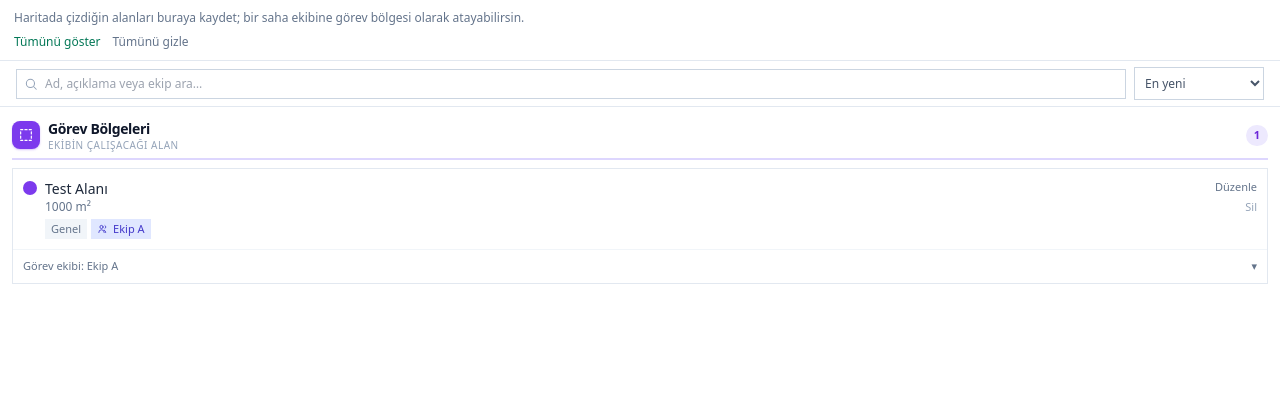
BolgePaneli - atama sonrasi panel guncellenir › atamayi kaldirinca kart havuza doner
Click the text "Görev ekibi: Ekip A" at (71, 266), box [23, 258, 118, 274]
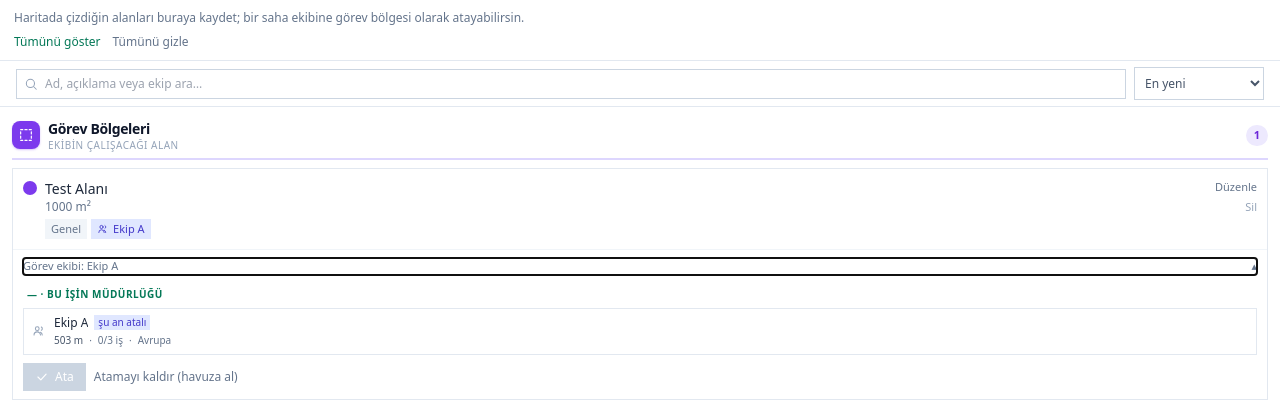
Click the button "Atamayı kaldır (havuza al)" at (166, 376), box [94, 368, 238, 384]
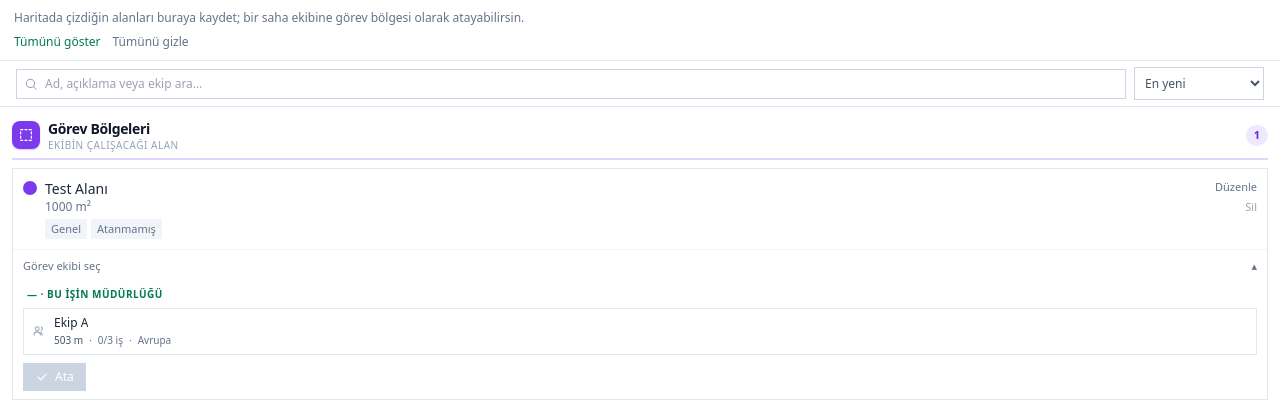
Now the text "Görev ekibi seç" is shown, box [23, 258, 101, 274]
Now the button "Atamayı kaldır" is gone
